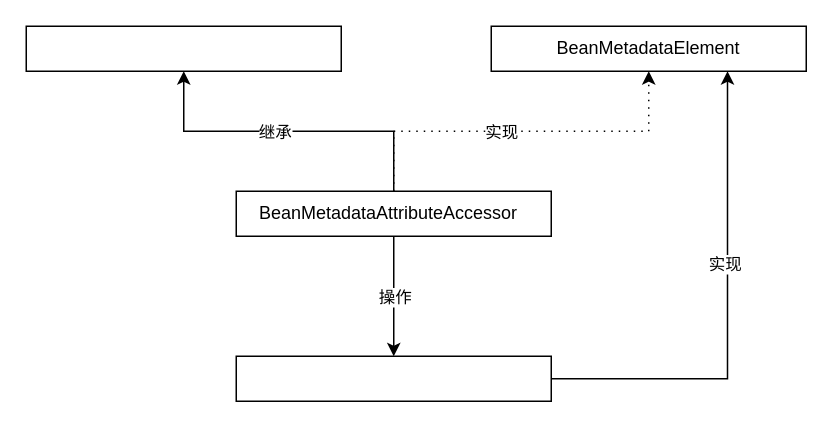
The diagram is 833 pixels wide and 428 high, and some of its shapes have lost their labels. Each missing label, with the centre of its shape:
AttributeAccessorSupport: point 183,48
BeanMetadataAttribute: point 393,378
